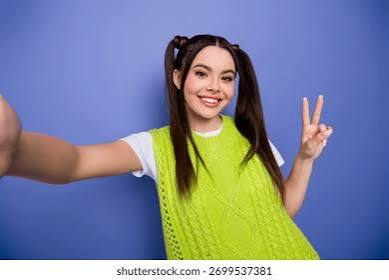peace_sign: (299, 88, 336, 160)
